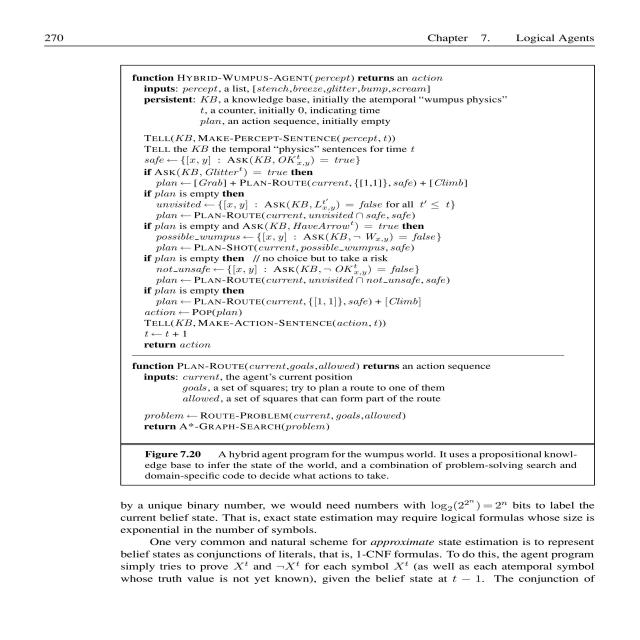diagram: (106, 64, 614, 491)
